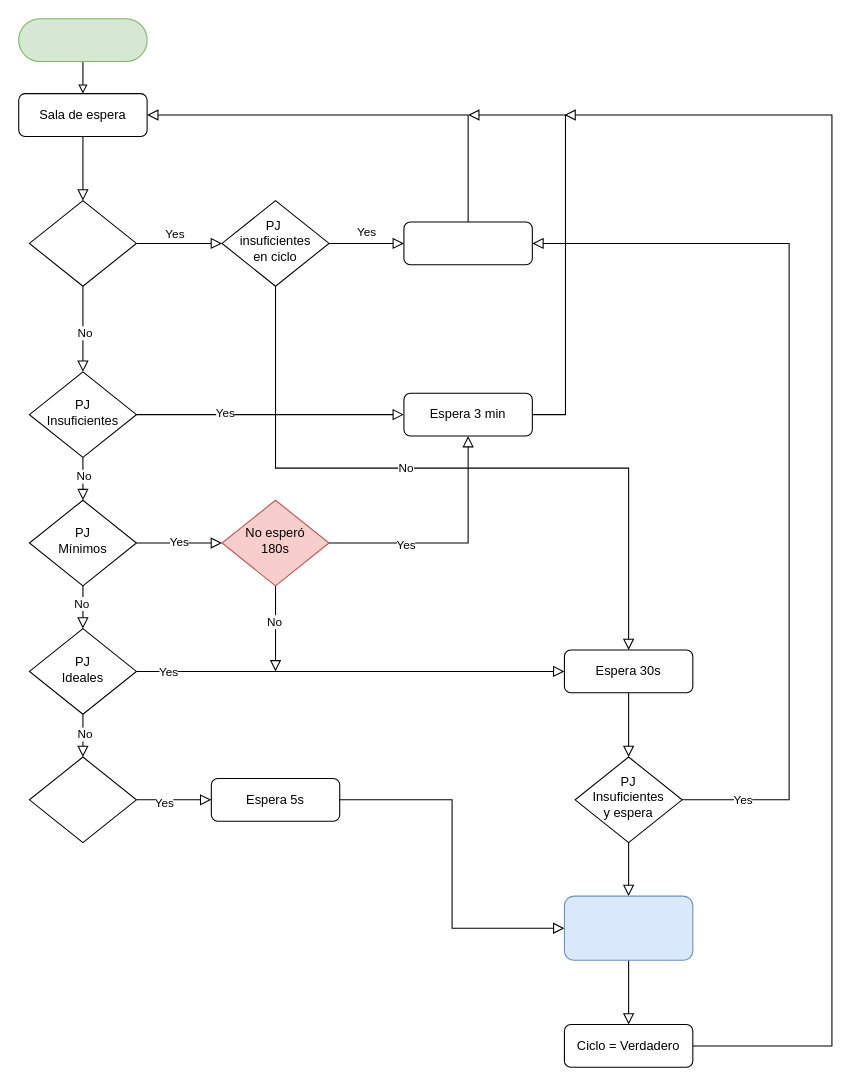
Image size: 861x1086. Some labels were removed from this diagram. The shapes that lost their labels are listed below. From the top down, each one's centre as x and y in pixels, then its label:
the point at 82,40: Abre servidor
the point at 82,243: En Ciclo
the point at 467,243: Ciclo = Falso
the point at 82,799: PJ Máximos
the point at 628,927: Juego
